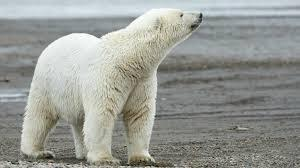bear: (11, 1, 208, 168)
